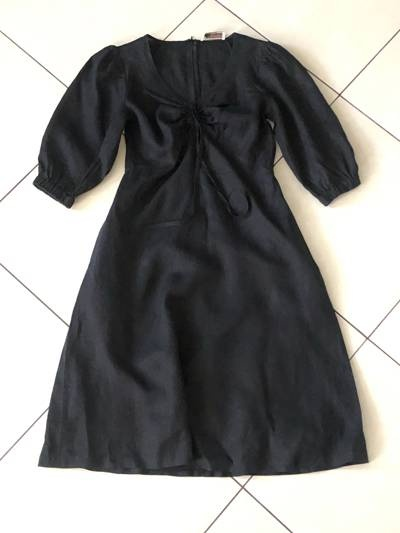Dress: (17, 23, 385, 503)
